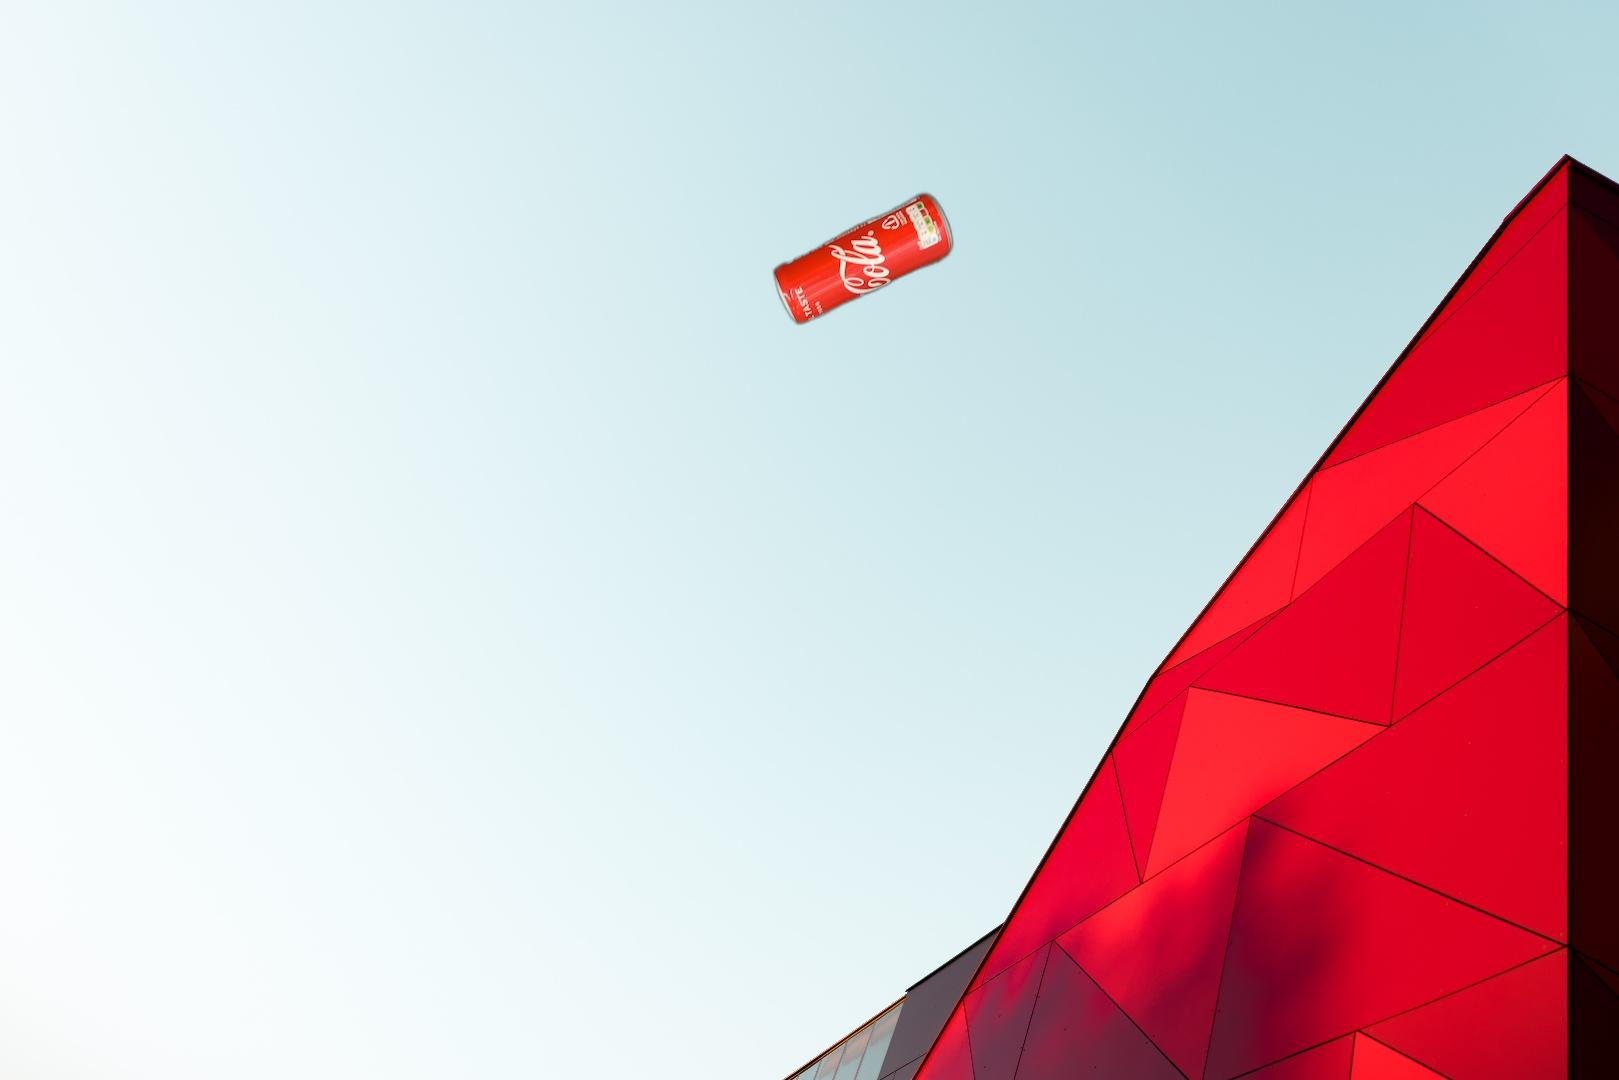metal-cans: (769, 187, 990, 749)
